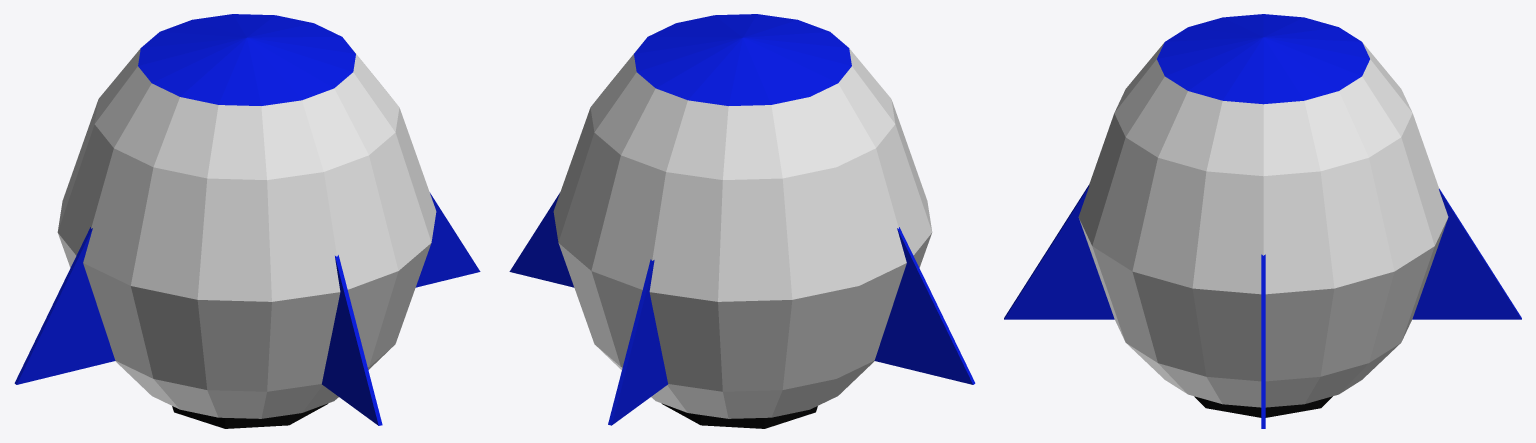
File: blue_rocket.glb
3 views of the same model, side by side, from view 1: azimuth 30°, elevation 25°; view 2: azimuth 150°, elevation 25°; view 3: azimuth 270°, elevation 25° (orthographic). The views are drawn at different scales.
Parts seen in each view (by area): view 1: Cylinder, Cylinder.004, Cylinder.005; view 2: Cylinder, Cylinder.004, Cylinder.005; view 3: Cylinder, Cylinder.004, Cylinder.005.
Boxes of the visible parts, x1,y1,x2,y2 form: Cylinder: (57, 14, 436, 418); Cylinder.004: (14, 193, 480, 425); Cylinder.005: (172, 403, 328, 428); Cylinder: (553, 14, 932, 418); Cylinder.004: (509, 193, 975, 425); Cylinder.005: (661, 403, 817, 428); Cylinder: (1078, 14, 1448, 407); Cylinder.004: (1004, 185, 1521, 428); Cylinder.005: (1194, 396, 1332, 417).
Bounding box in the file's own units: 3.21 × 2.44 × 3.2.
